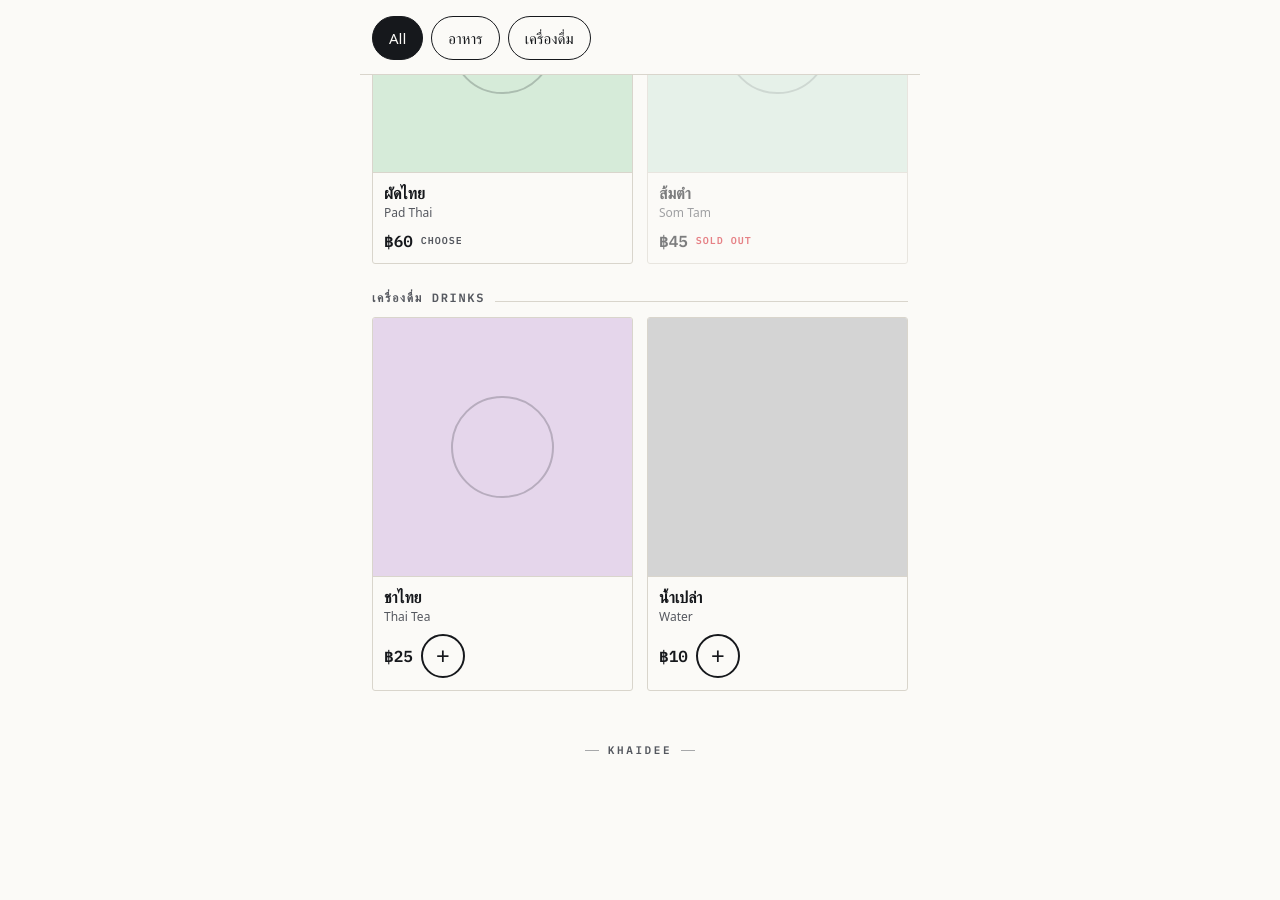
confirming the order › lets the customer remove a chosen item before sending
(page scrolled)
Click the button with aria-label "Thai Tea, ฿25" at x=502, y=504, box [372,317,633,691]
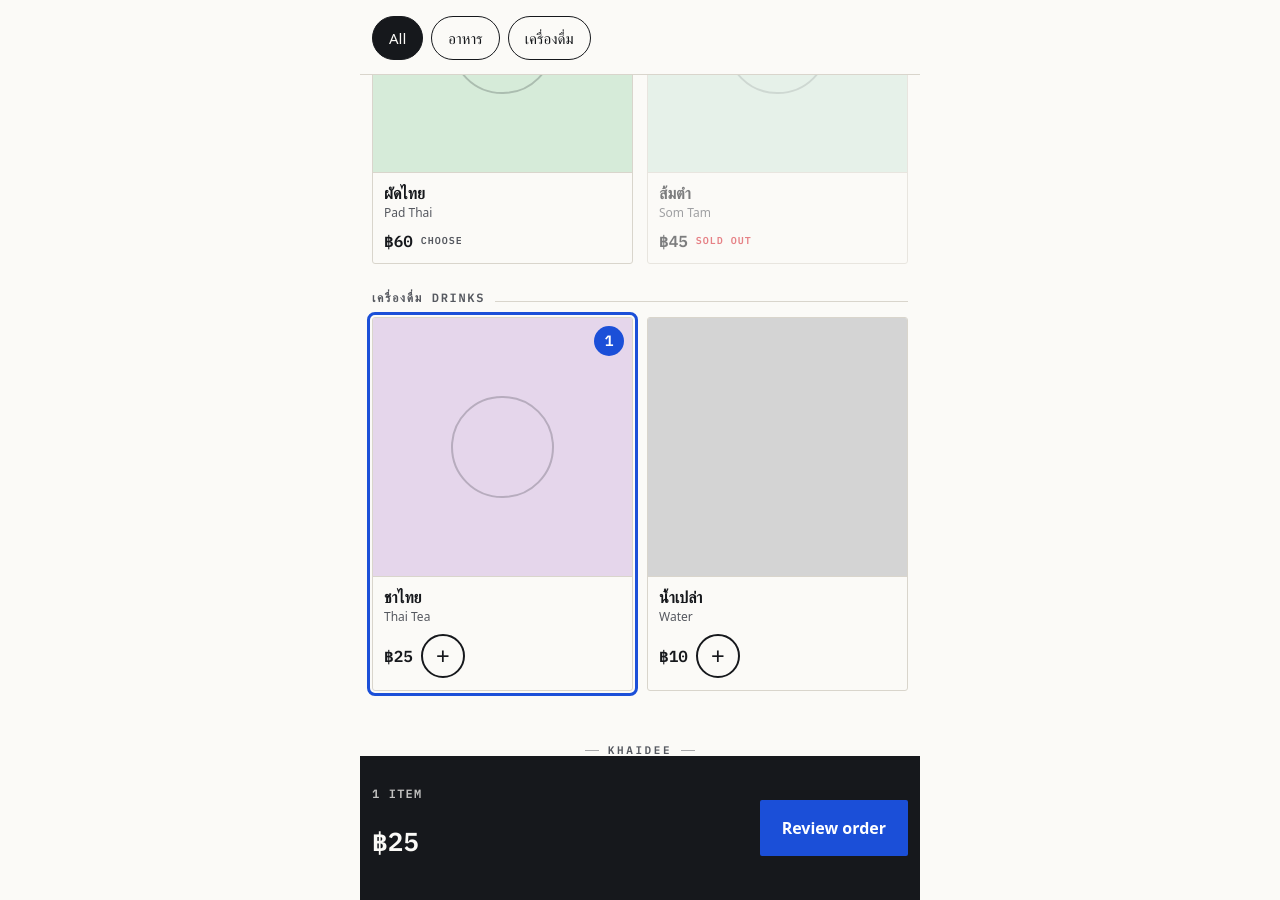
Click the button with aria-label "Thai Tea, ฿25" at x=502, y=504, box [372,317,633,691]
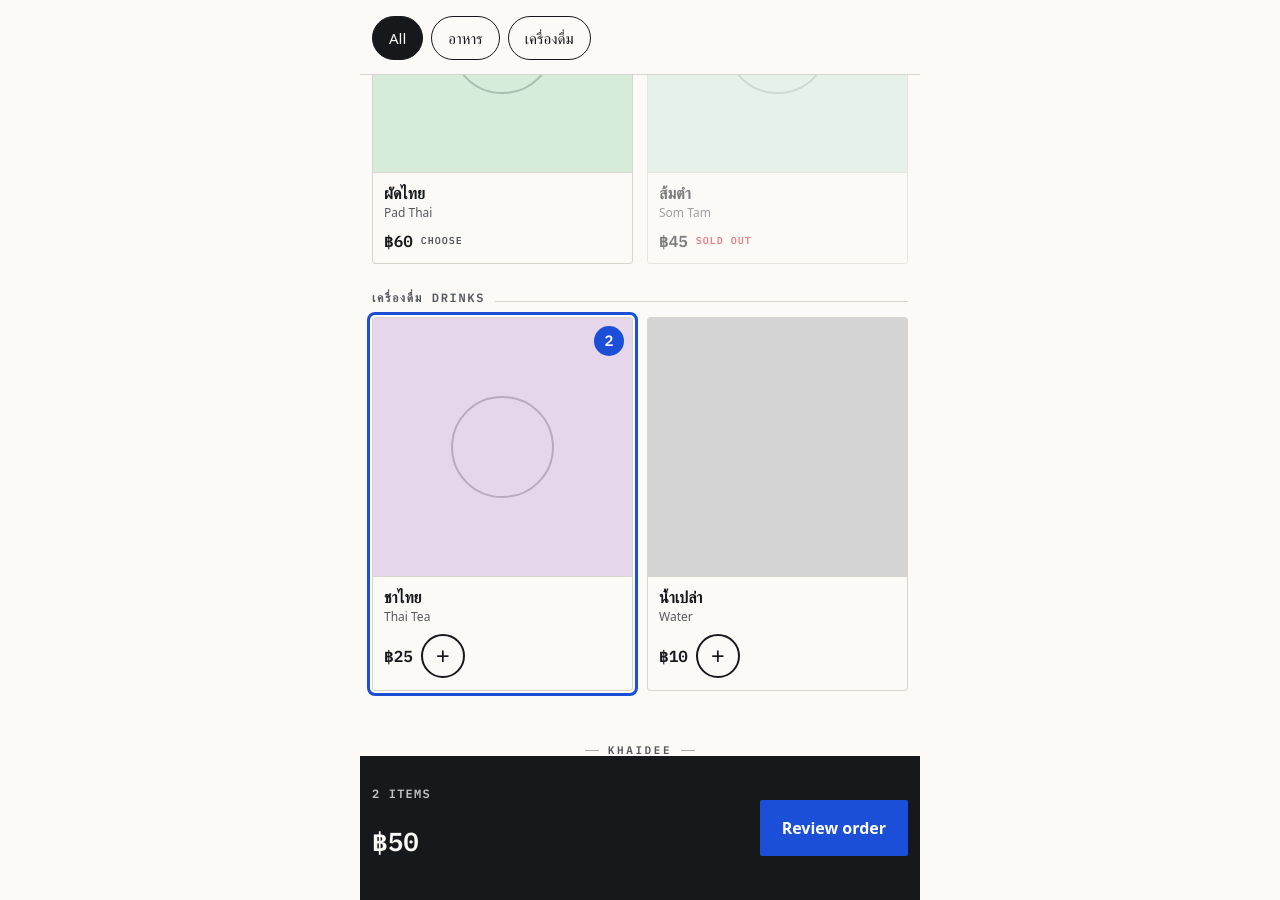
Click the button "Review order" at x=834, y=828, box [760,800,908,856]
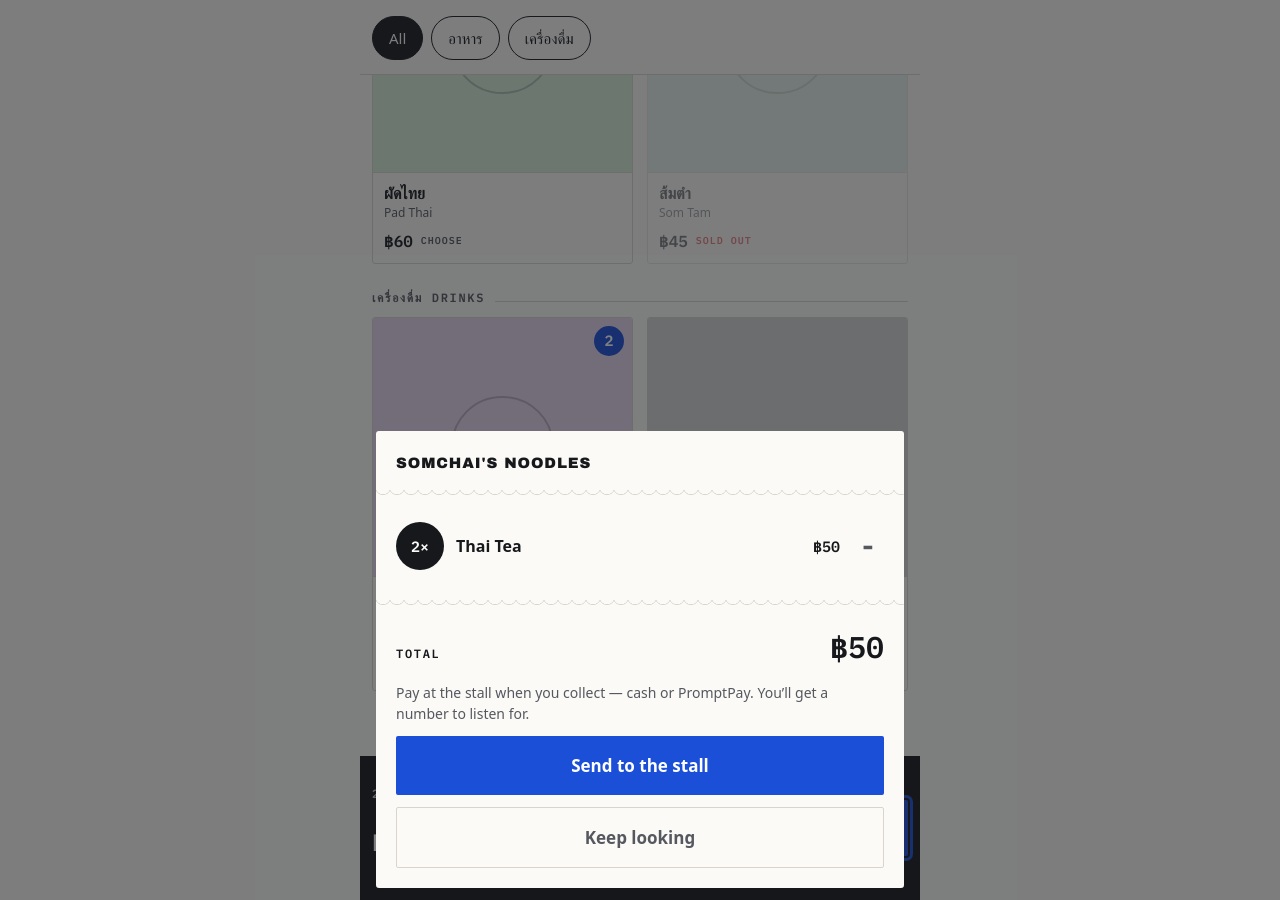
Now the text "2×" is shown, box [396,522,444,570]
Now the text with class "total__amount" reads "฿50", box [830,627,884,666]
Click the button named "Remove one Thai Tea" at x=868, y=546, box [852,524,884,568]
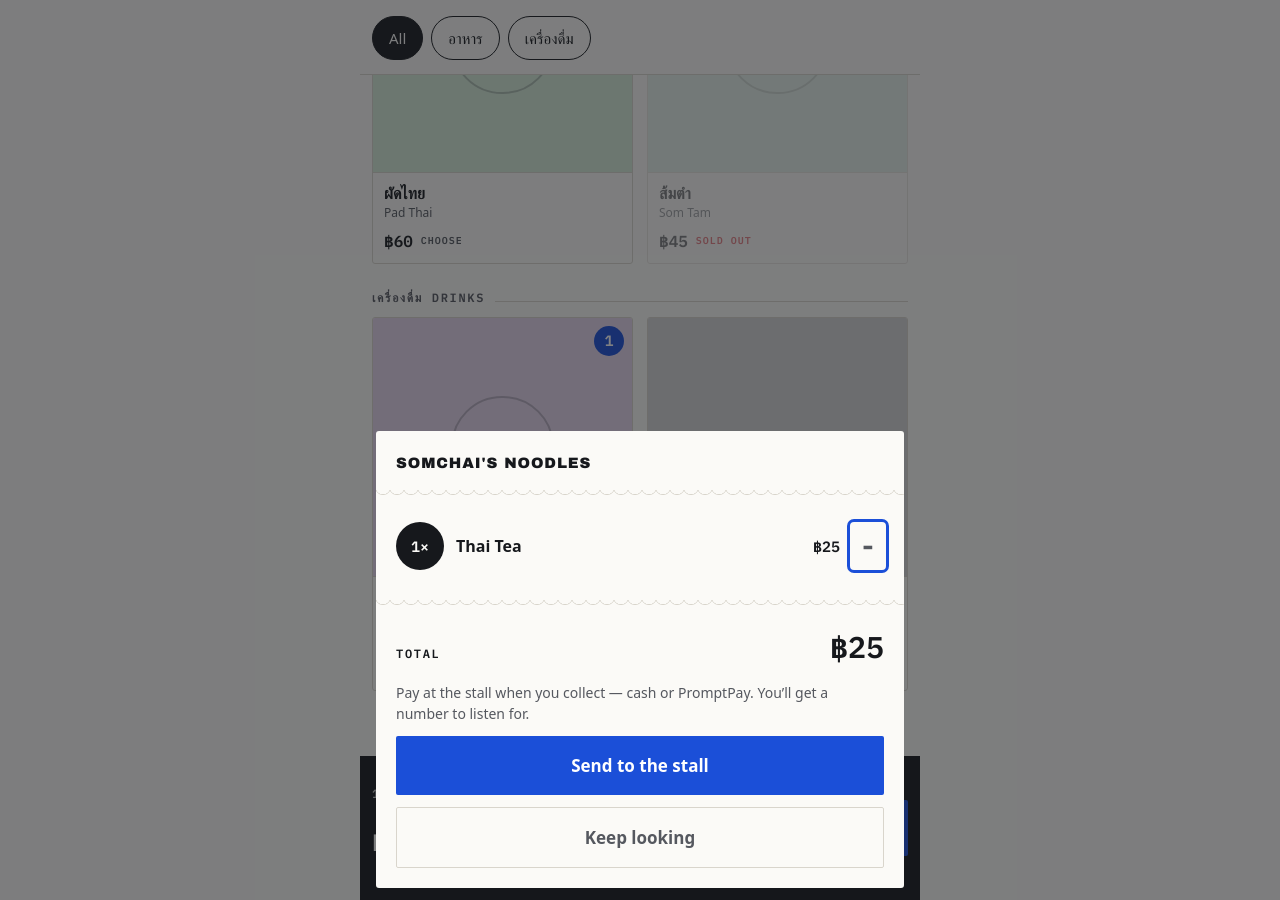
Now the text "1×" is shown, box [396,522,444,570]
Now the text with class "total__amount" reads "฿25", box [830,627,884,666]
